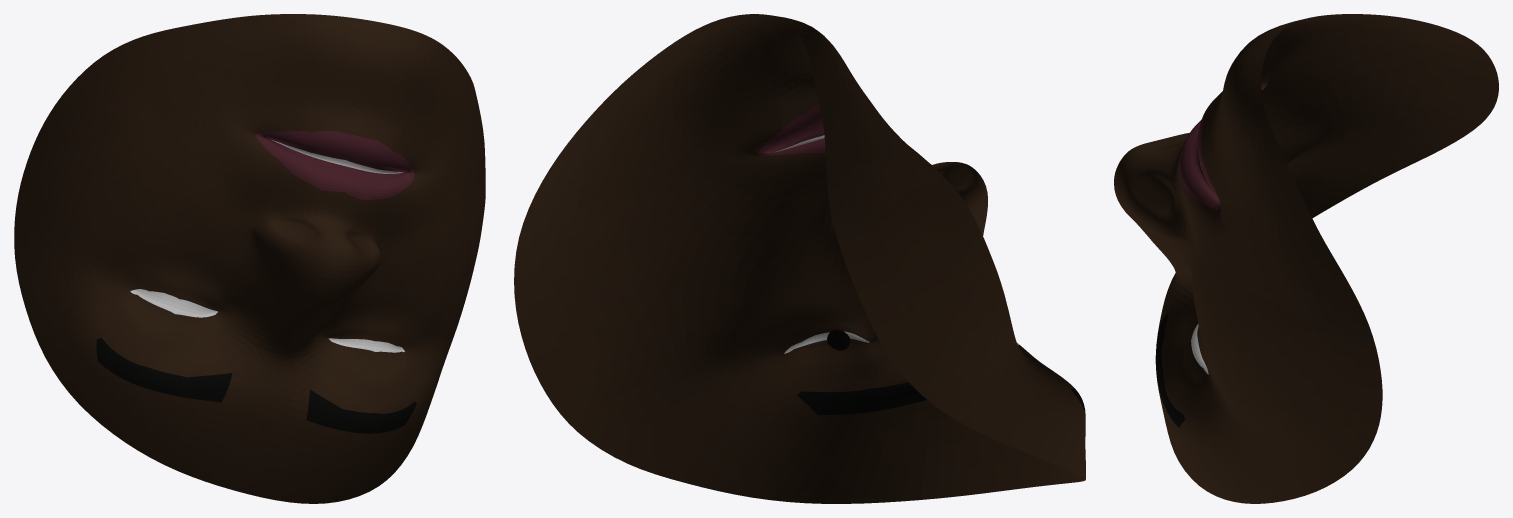
The model's file is frame_00250.obj.
3 views of the same model, side by side, from view 1: azimuth 30°, elevation 25°; view 2: azimuth 150°, elevation 25°; view 3: azimuth 270°, elevation 25° (orthographic). The views are drawn at different scales.
Visible parts, largest first — view 1: face_mesh_subdivided; view 2: face_mesh_subdivided; view 3: face_mesh_subdivided.
Boxes of the visible parts, x1,y1,x2,y2 form: face_mesh_subdivided: (14,14,485,503); face_mesh_subdivided: (514,14,1085,503); face_mesh_subdivided: (1114,14,1498,503).
Bounding box in the file's own units: 0.5629 × 0.5352 × 0.4126.
